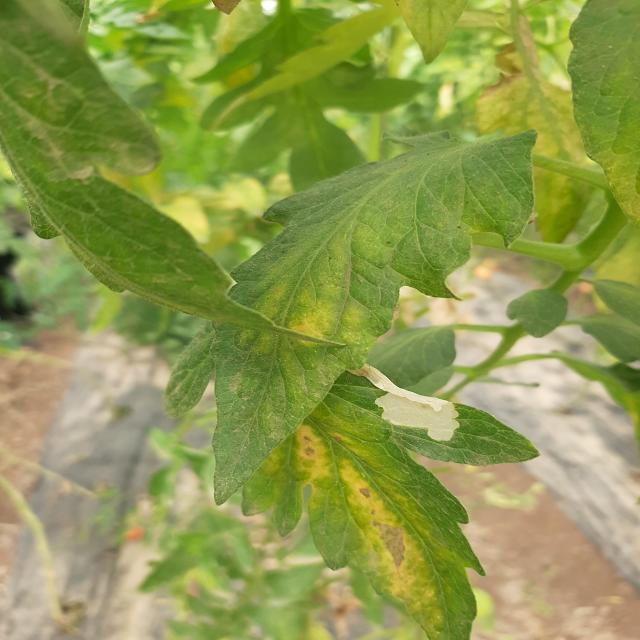Tuta absoluta: (337, 359, 469, 447)
